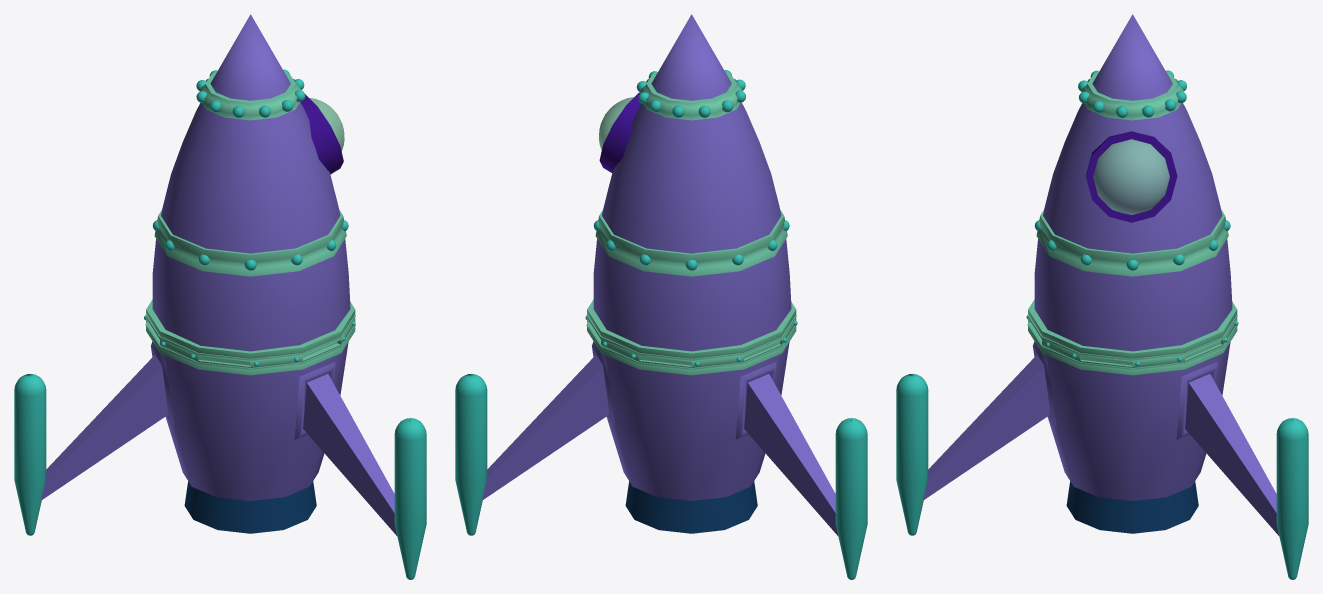
The model's file is M_spaceshhip.FBX.
The picture shows the model from 3 angles, left to right: view 1: azimuth 30°, elevation 25°; view 2: azimuth 150°, elevation 25°; view 3: azimuth 270°, elevation 25°; orthographic projection.
Visible parts, largest first — view 1: Arc001, Tube001, Capsule003, Capsule002, Tube002, Cone001, Tube003, Tube004, Sphere001; view 2: Arc001, Tube001, Capsule002, Capsule001, Tube002, Cone001, Tube003, Tube004, Sphere001; view 3: Arc001, Tube001, Capsule001, Capsule003, Sphere001, Tube002, Cone001, Tube004, Tube003.
Part boxes in pixels (box(x1,y1,x2,y2)): Arc001: box(41, 14, 396, 535); Tube001: box(145, 299, 355, 375); Capsule003: box(394, 418, 426, 579); Capsule002: box(14, 373, 46, 535); Tube002: box(154, 210, 346, 276); Cone001: box(184, 481, 316, 533); Tube003: box(199, 72, 301, 120); Tube004: box(300, 94, 343, 174); Sphere001: box(309, 98, 344, 151); Arc001: box(482, 14, 837, 535); Tube001: box(586, 299, 796, 375); Capsule002: box(835, 418, 867, 579); Capsule001: box(455, 373, 487, 535); Tube002: box(595, 210, 787, 276); Cone001: box(625, 481, 757, 533); Tube003: box(640, 72, 742, 120); Tube004: box(599, 92, 640, 172); Sphere001: box(599, 97, 633, 150); Arc001: box(923, 14, 1278, 535); Tube001: box(1027, 299, 1237, 375); Capsule001: box(1276, 418, 1308, 579); Capsule003: box(896, 373, 928, 535); Sphere001: box(1093, 139, 1169, 215); Tube002: box(1036, 210, 1228, 276); Cone001: box(1066, 481, 1198, 533); Tube004: box(1086, 131, 1177, 222); Tube003: box(1081, 72, 1183, 120).
Size of the model in its own units: 3.18 by 4.22 by 3.17.
